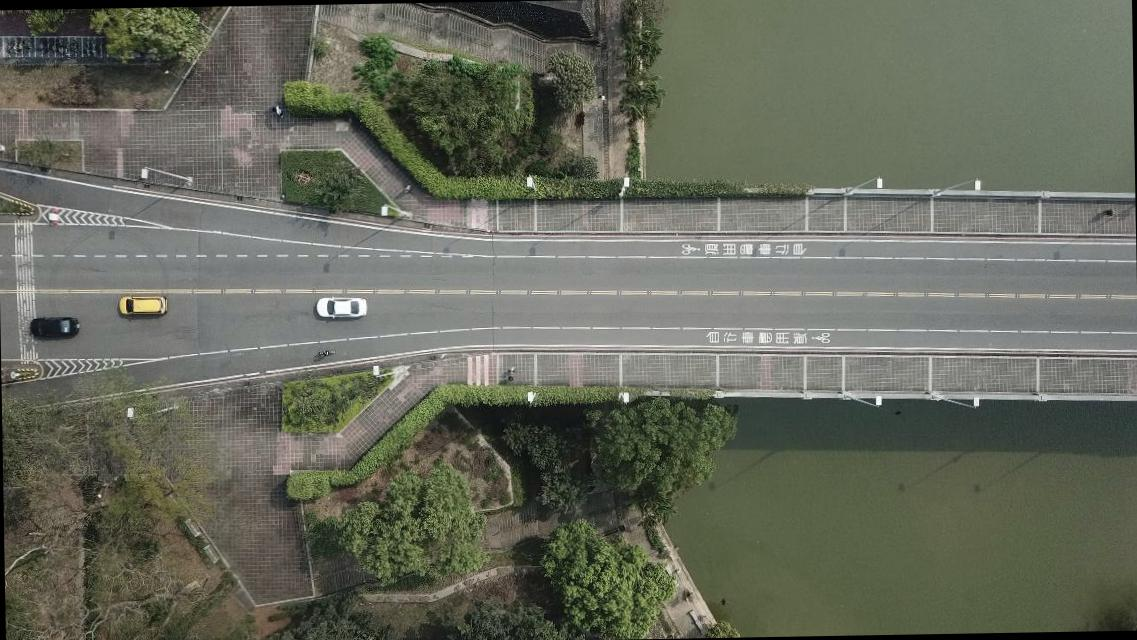vehicle: (28, 316, 78, 340), (316, 294, 366, 318), (116, 295, 168, 318)
